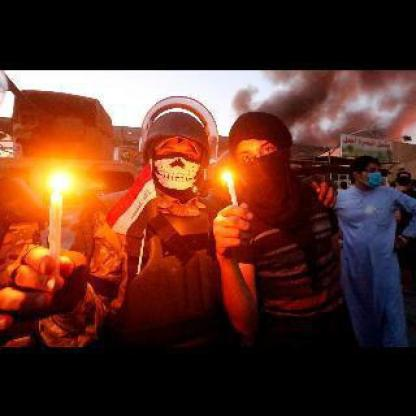fire: (47, 170, 71, 196), (220, 166, 236, 184)
